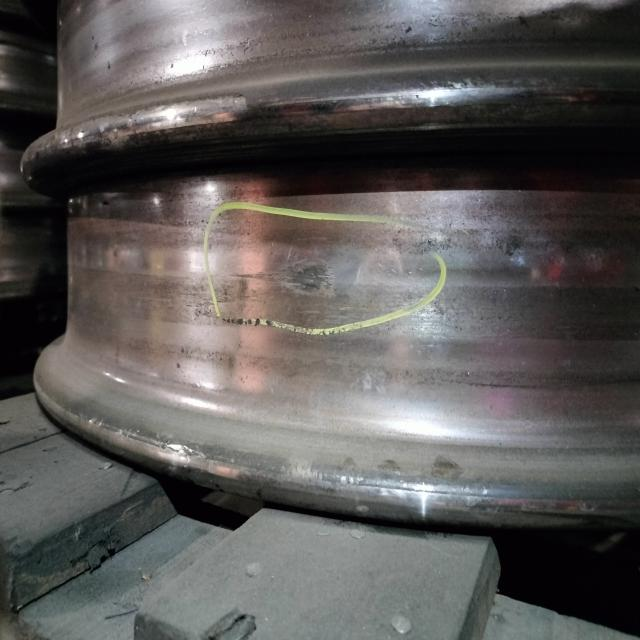Blue hole: (228, 247, 348, 312)
flat: (80, 234, 575, 299)
